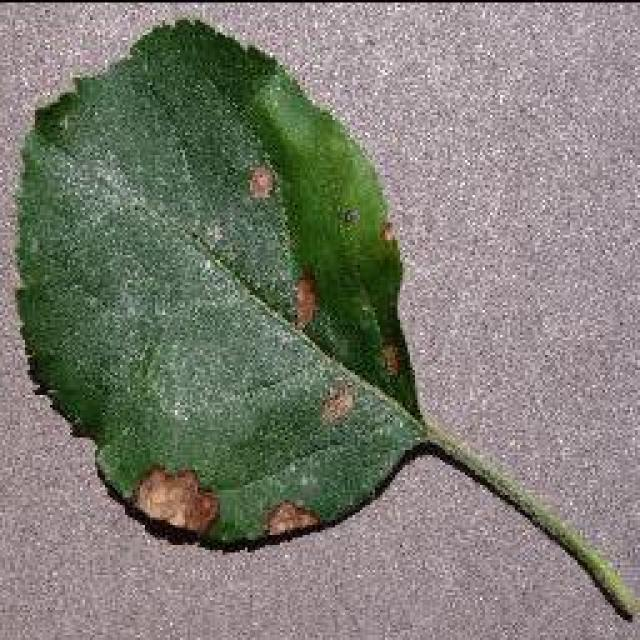apple black rot: (10, 15, 428, 550)
